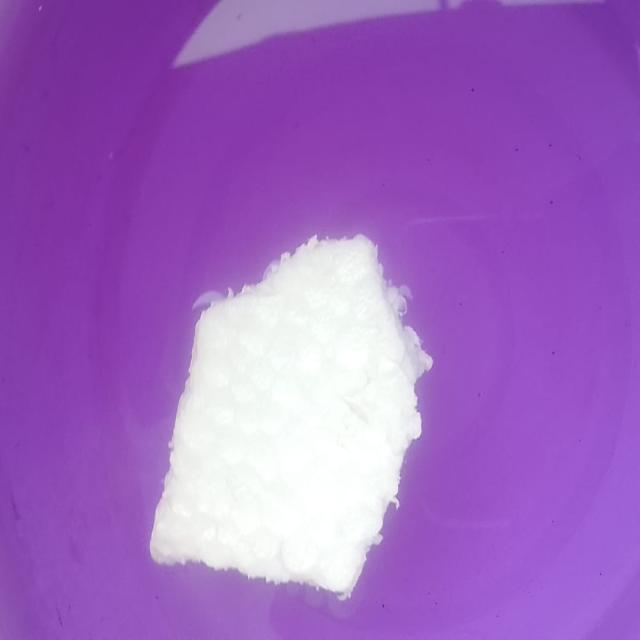thermocoal: (157, 202, 416, 608)
